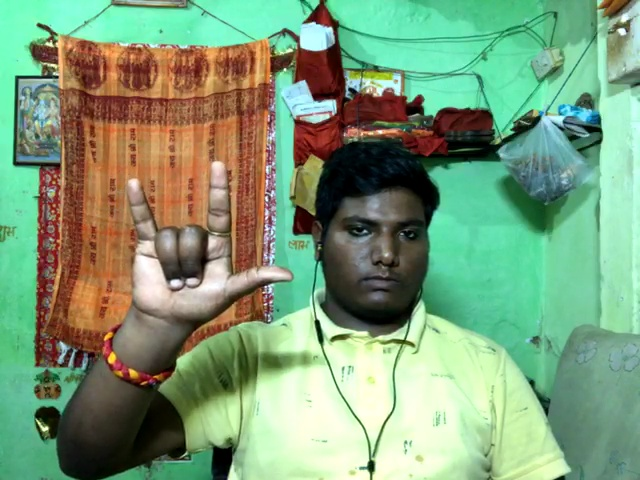I Love You: (104, 155, 307, 354)
